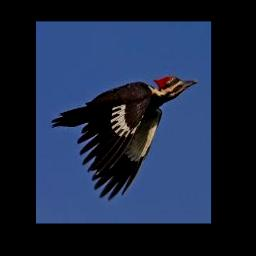Woodpecker: (51, 75, 198, 200)
